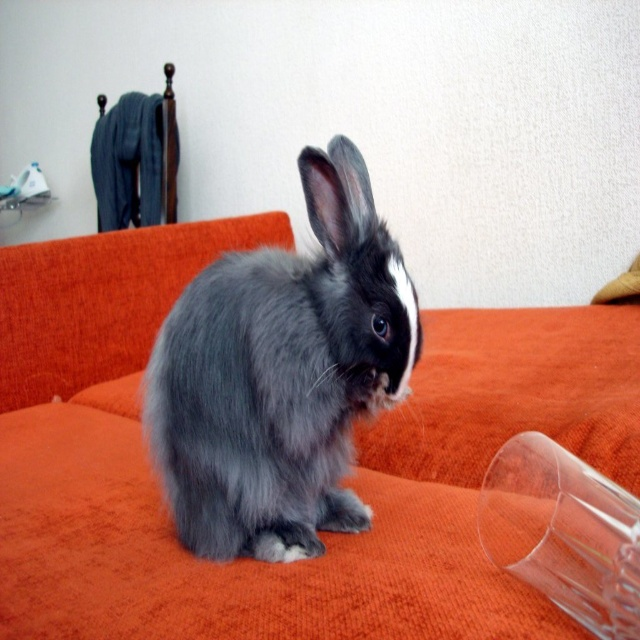Rabbit: (137, 133, 423, 563)
